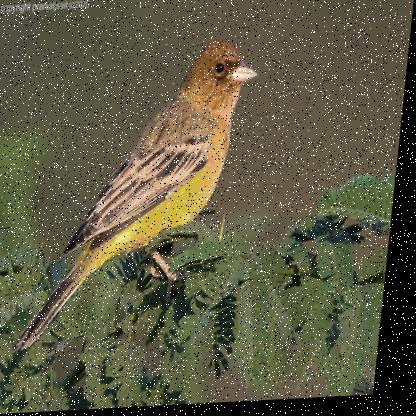Burung: (18, 38, 264, 360)
